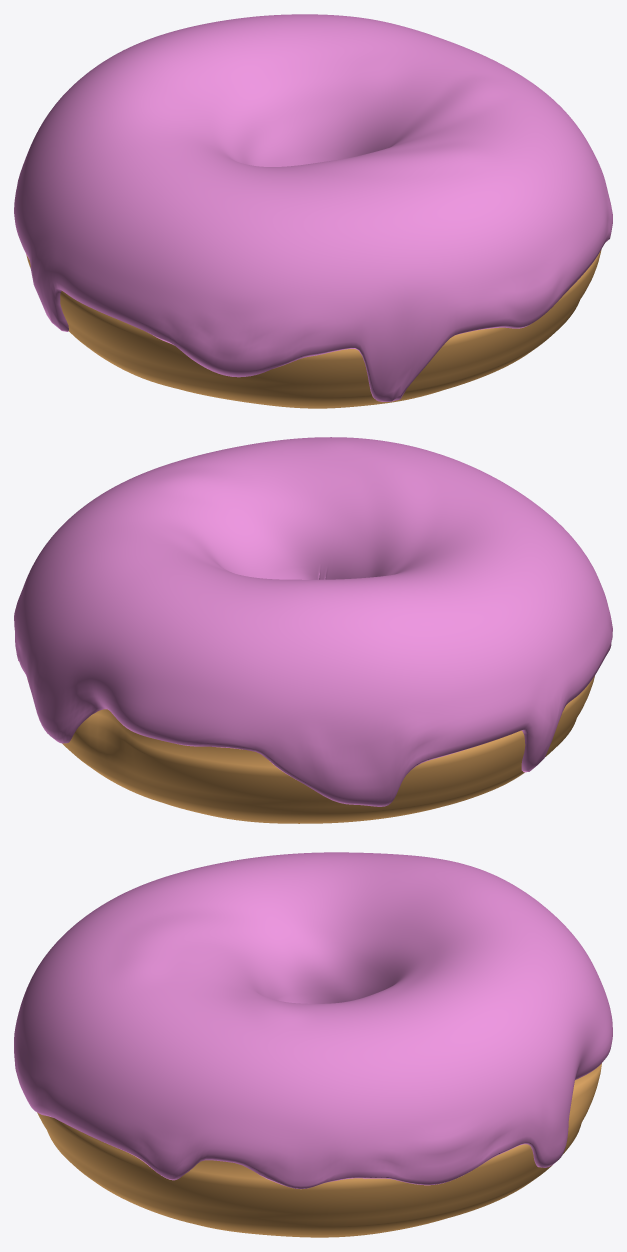
File: donut.glb
3 renders of one model, top to bottom at view 1: azimuth 30°, elevation 25°; view 2: azimuth 150°, elevation 25°; view 3: azimuth 270°, elevation 25°, orthographic.
Visible parts, largest first — view 1: Icing, Donut; view 2: Icing, Donut; view 3: Icing, Donut.
Boxes of the visible parts, x1,y1,x2,y2 form: Icing: [14, 14, 612, 401]; Donut: [26, 250, 601, 408]; Icing: [14, 437, 612, 806]; Donut: [62, 676, 594, 823]; Icing: [14, 852, 612, 1189]; Donut: [37, 1063, 601, 1237].
Size of what is drawn, in the model's own units: 0.1019 by 0.043 by 0.1021.
